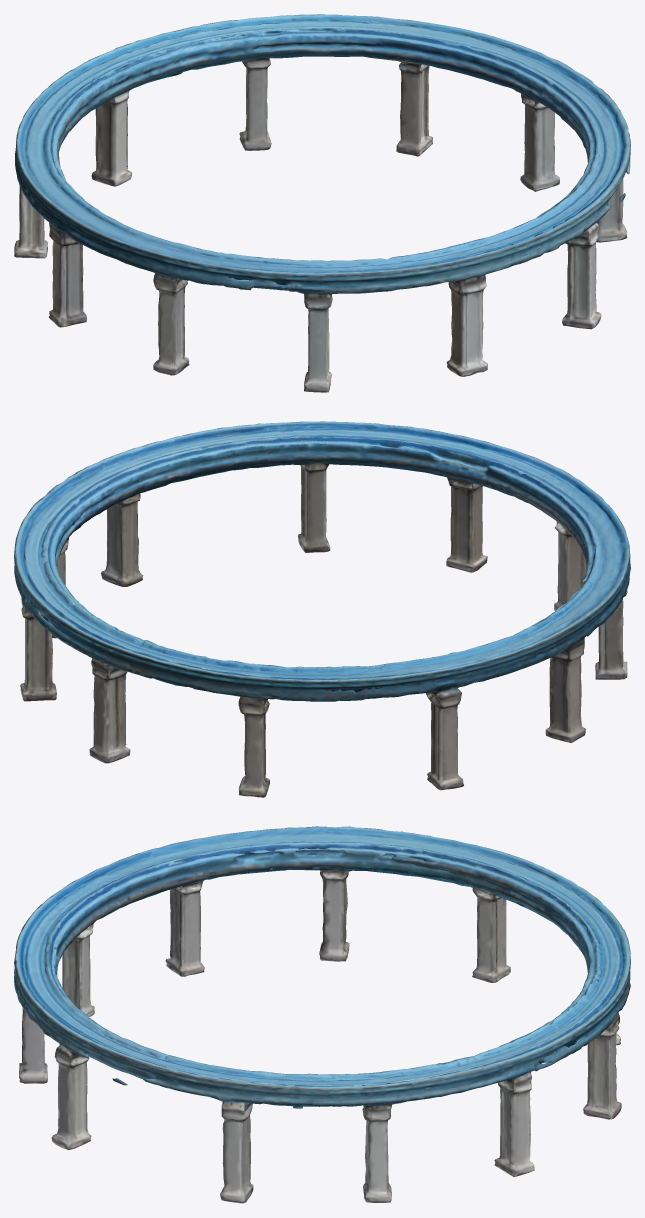
File: 롯데_모노레일.glb
3 views of the same model, one above another, from view 1: azimuth 30°, elevation 25°; view 2: azimuth 150°, elevation 25°; view 3: azimuth 270°, elevation 25° (orthographic).
Visible parts, largest first — view 1: texture_mapping; view 2: texture_mapping; view 3: texture_mapping.
Part boxes in pixels (left/top/right/bottom): texture_mapping: left=14, top=14, right=630, bottom=392; texture_mapping: left=14, top=421, right=630, bottom=797; texture_mapping: left=14, top=826, right=630, bottom=1203.
Size of the model in its own units: 0.991 by 0.2149 by 0.9902.
Materials: 1 (1 with a texture image).
